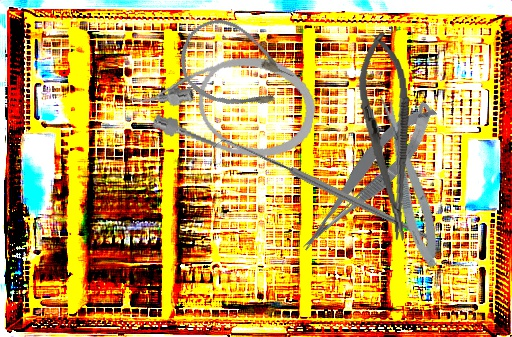Cannula: (123, 34, 323, 169), (167, 7, 304, 129)
Hook Surgical: (212, 72, 432, 311)
Micro Scissor: (282, 95, 451, 258), (374, 91, 446, 271)
Needle Holder: (351, 28, 425, 245)
